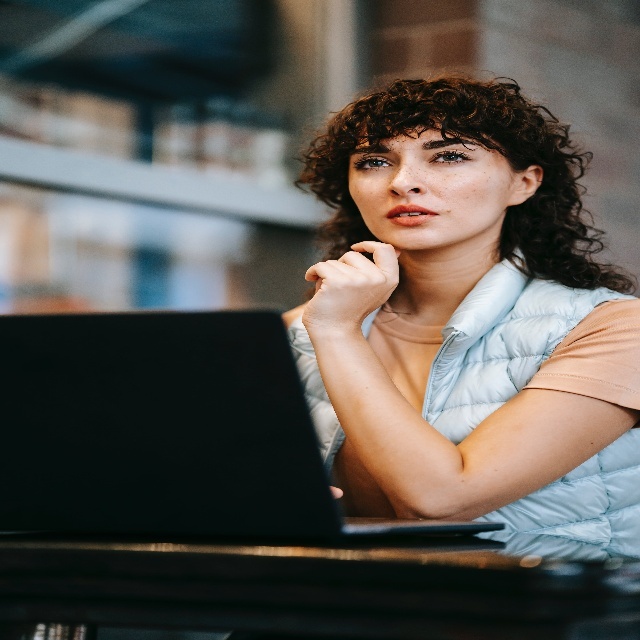Sin_guantes: (301, 241, 400, 332)
